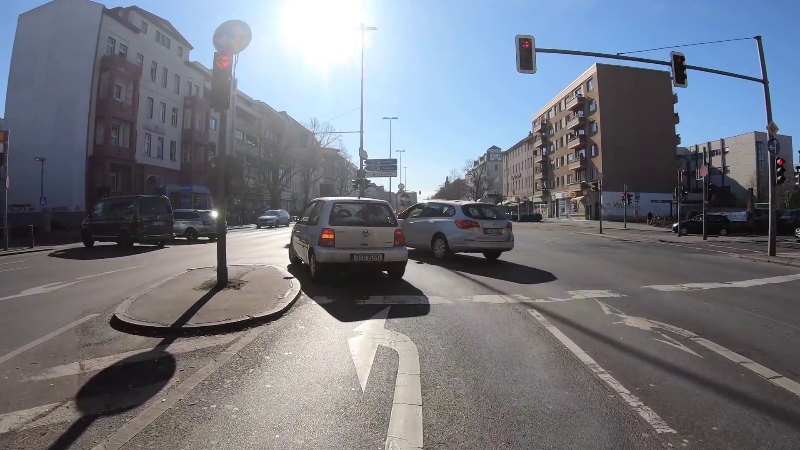Plate: (346, 252, 383, 262), (483, 226, 505, 236)
